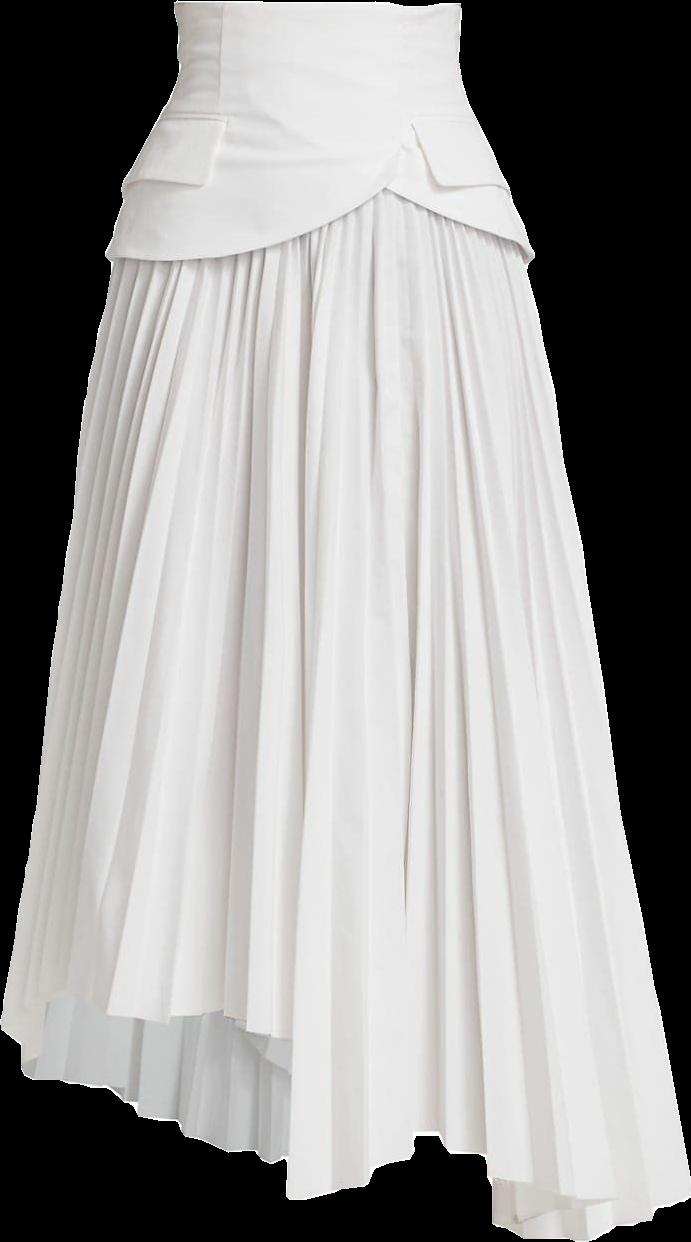Hemline: (0, 984, 690, 1209), (102, 181, 538, 271)
Waistline: (170, 0, 472, 14)
